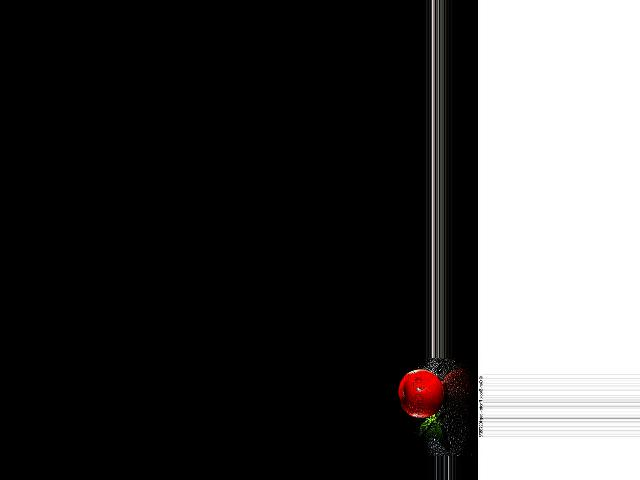tomato: (398, 369, 443, 418)
